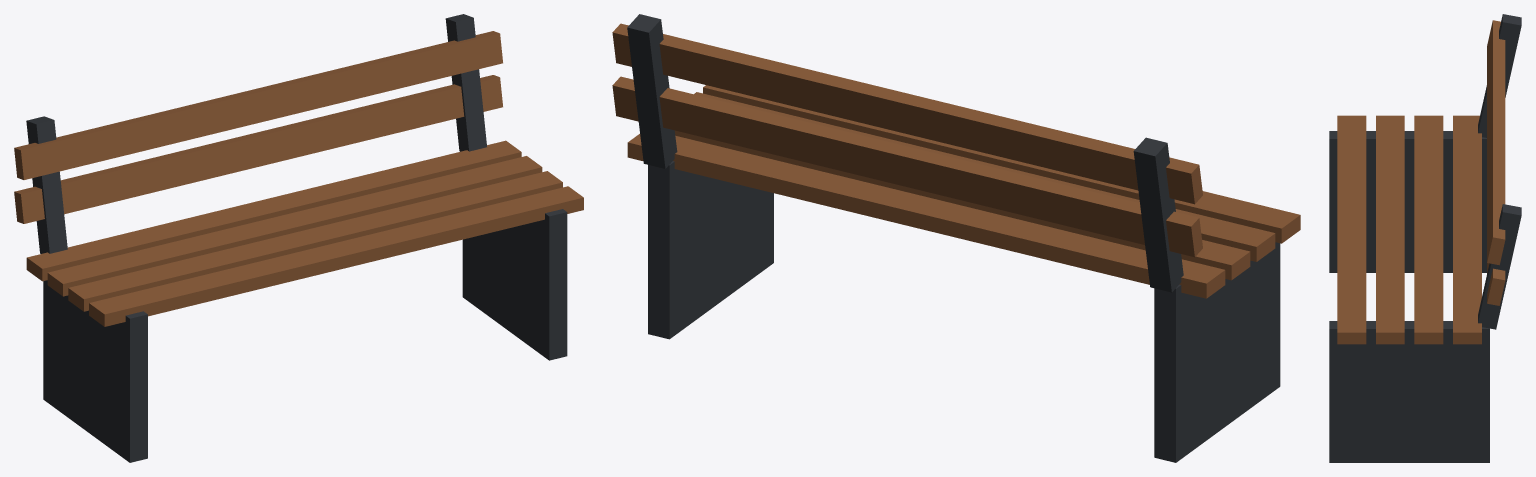
Rendered from bench_01.glb.
3 views of the same model, side by side, from view 1: azimuth 30°, elevation 25°; view 2: azimuth 150°, elevation 25°; view 3: azimuth 270°, elevation 25° (orthographic). The views are drawn at different scales.
Visible parts, largest first — view 1: bench_01_wood, bench_01_metal; view 2: bench_01_wood, bench_01_metal; view 3: bench_01_wood, bench_01_metal.
Boxes of the visible parts, x1=… form: bench_01_wood: x1=14, y1=31, x2=583, y2=326; bench_01_metal: x1=26, y1=14, x2=567, y2=462; bench_01_wood: x1=612, y1=23, x2=1300, y2=298; bench_01_metal: x1=627, y1=14, x2=1280, y2=462; bench_01_wood: x1=1337, y1=20, x2=1505, y2=344; bench_01_metal: x1=1329, y1=14, x2=1521, y2=462.
Size of the model in its own units: 1.6 by 0.862 by 0.5991.
